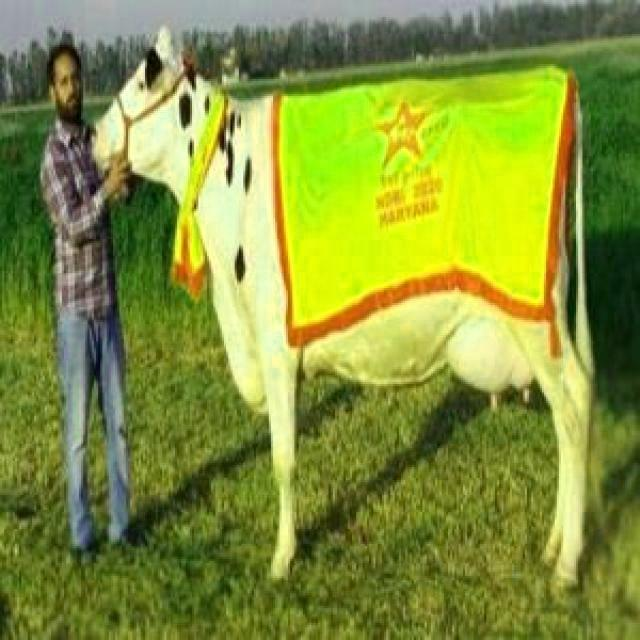cow: (96, 31, 592, 586)
